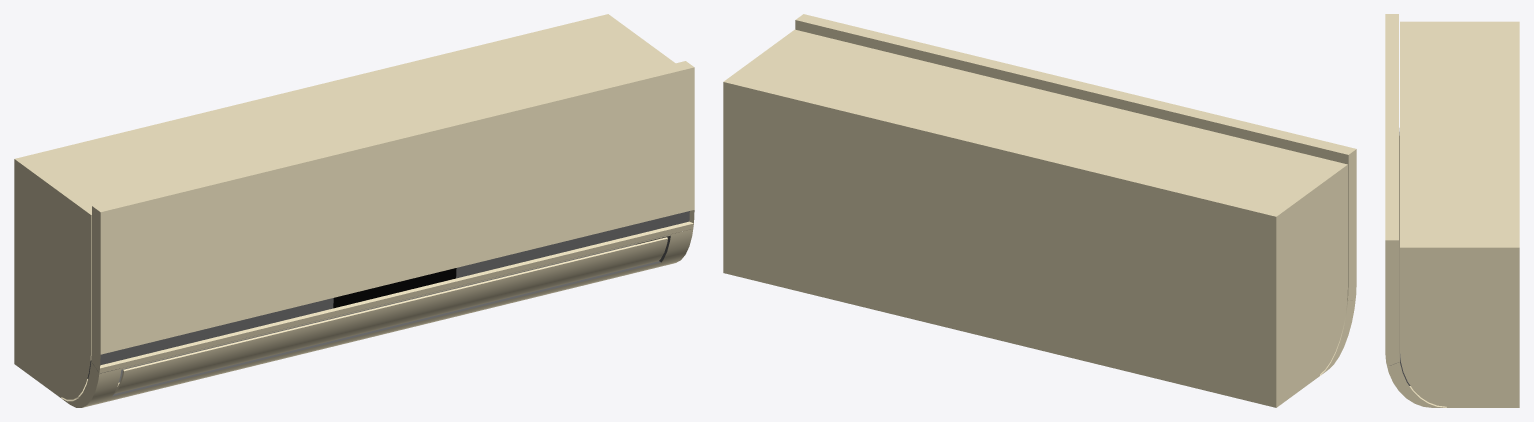
Rendered from uploads_files_2609021_Air+Conditioning.fbx.
The picture shows the model from 3 angles, left to right: view 1: azimuth 30°, elevation 25°; view 2: azimuth 150°, elevation 25°; view 3: azimuth 270°, elevation 25°; orthographic projection. The views are drawn at different scales.
Parts seen in each view (by area): view 1: AC, AC_Swing; view 2: AC; view 3: AC.
Part boxes in pixels (box(x1,y1,x2,y2)): AC: box(14, 14, 694, 407); AC_Swing: box(114, 237, 667, 393); AC: box(723, 14, 1356, 407); AC: box(1385, 14, 1519, 407).
Bounding box in the file's own units: 71.55 × 24.75 × 18.
